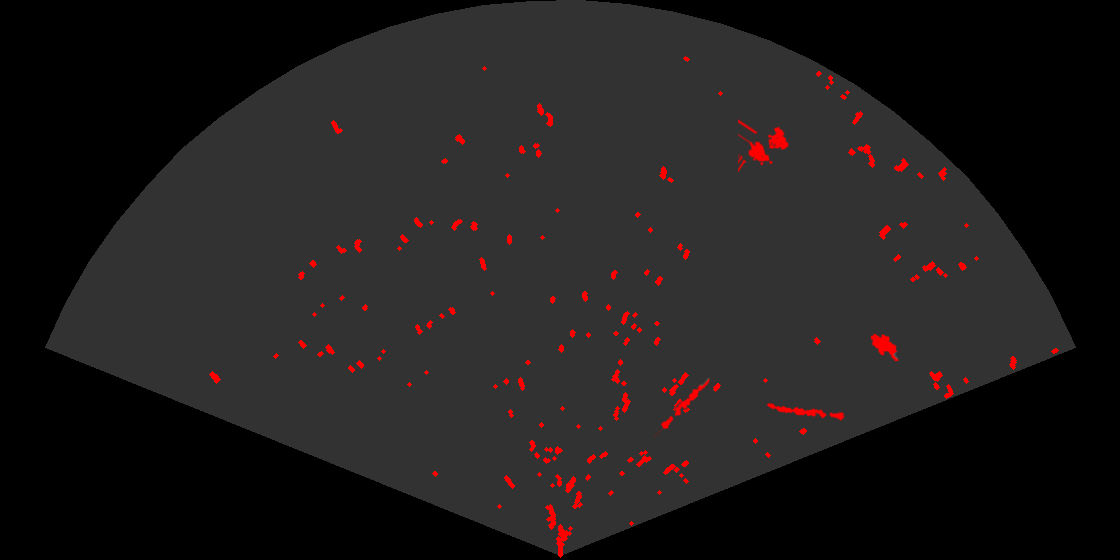AUV: (869, 332, 900, 363)
cage: (738, 117, 790, 174)
chain: (654, 377, 711, 440), (765, 402, 845, 422)
